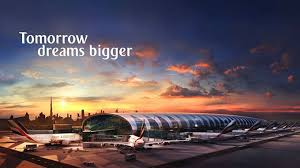maybay_dansu: (97, 128, 192, 152), (12, 123, 82, 148)
